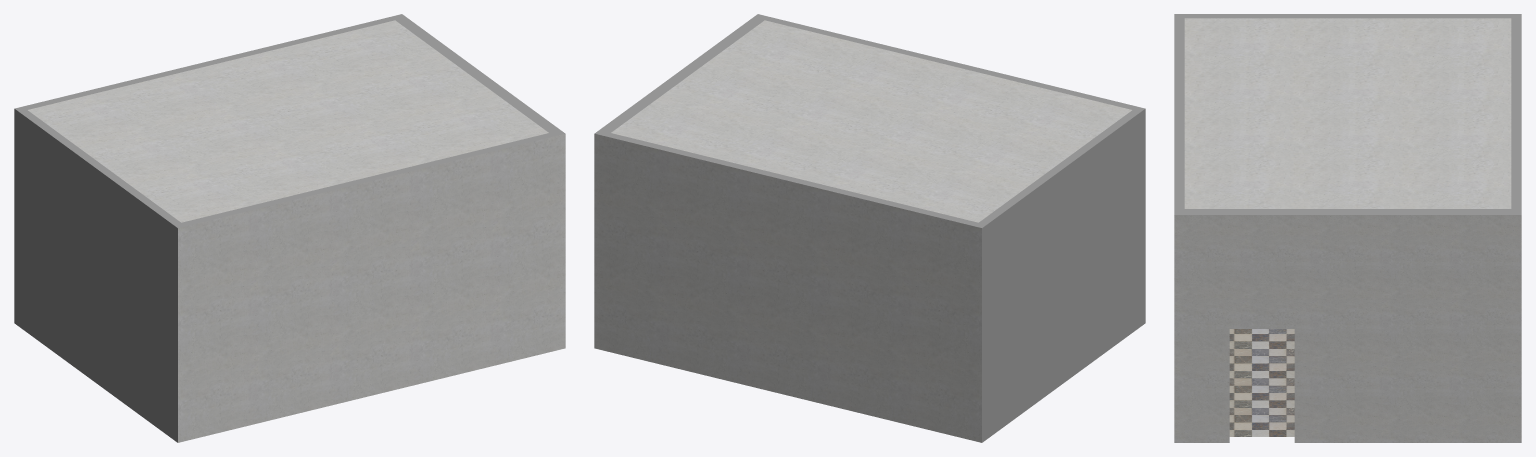
File: Room.obj
3 views of the same model, side by side, from view 1: azimuth 30°, elevation 25°; view 2: azimuth 150°, elevation 25°; view 3: azimuth 270°, elevation 25° (orthographic). The views are drawn at different scales.
Visible parts, largest first — view 1: Cube; view 2: Cube; view 3: Cube.
Part boxes in pixels (x1,y1,x2,y2): Cube: (14,14,565,442); Cube: (594,14,1145,442); Cube: (1174,14,1521,442).
Size of the model in its own units: 3.78 by 2 by 2.76.
